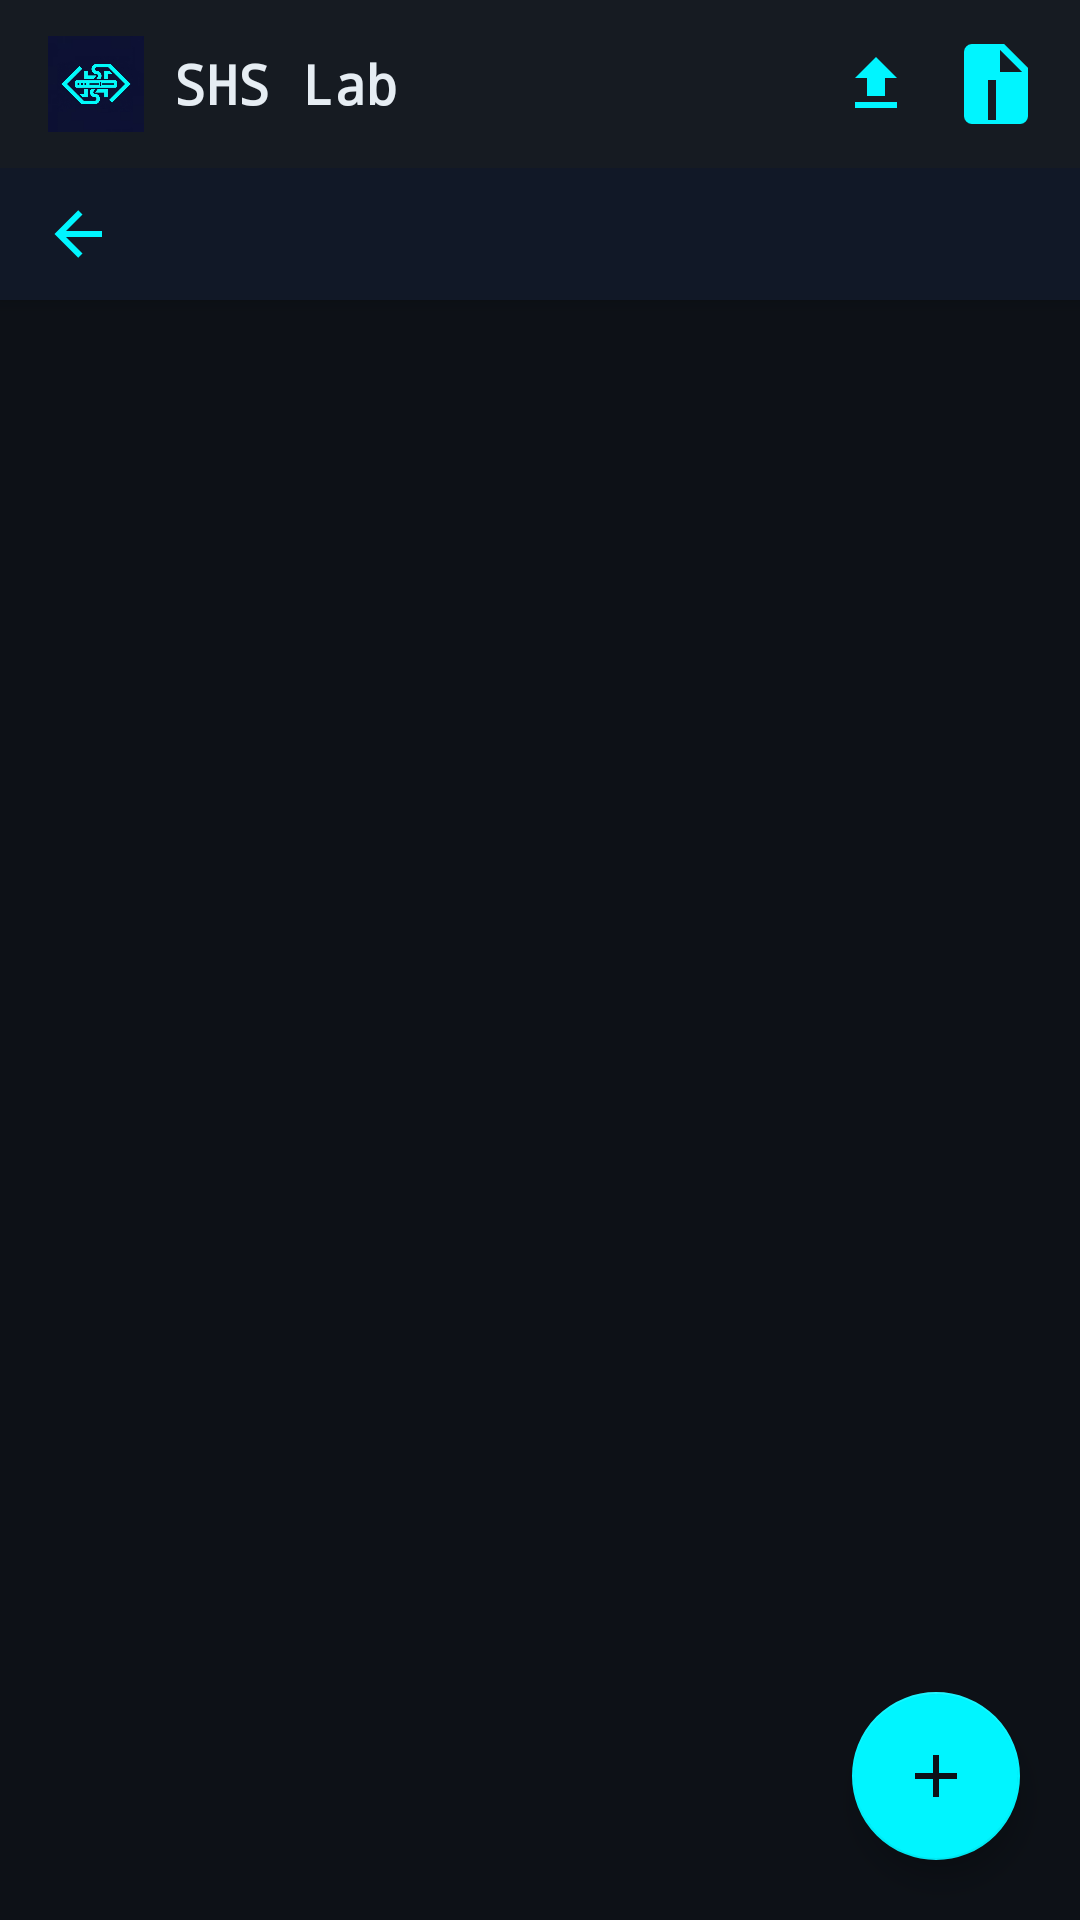

Named icons in this screenshot (1080 × 1920) and their centers, point (x, y):
Back: point (78, 234)
Create New: point (936, 1776)
Import Files: point (876, 82)
Import ZIP: point (996, 84)
